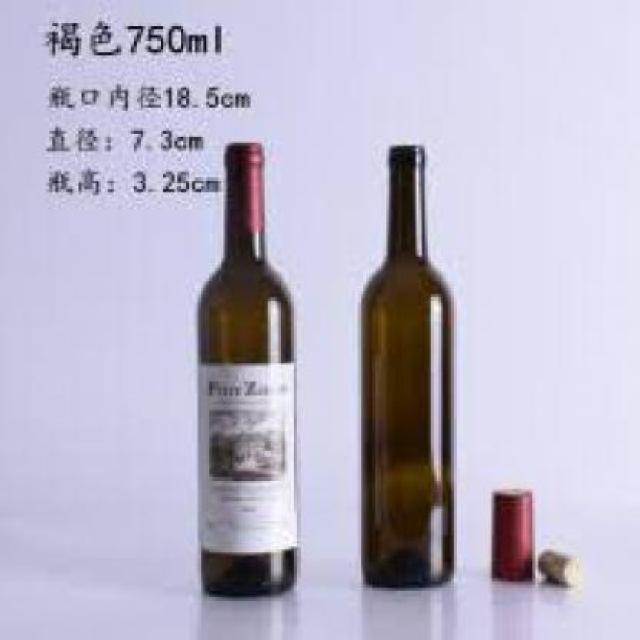kaca: (352, 146, 451, 585), (198, 228, 294, 597)
